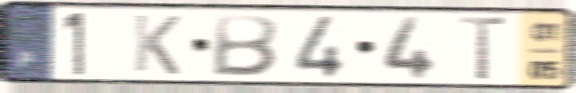1: (61, 10, 87, 78)
4: (380, 14, 440, 82), (292, 13, 347, 81)
B: (208, 12, 282, 79)
K: (130, 12, 184, 78)
T: (455, 14, 511, 83)
